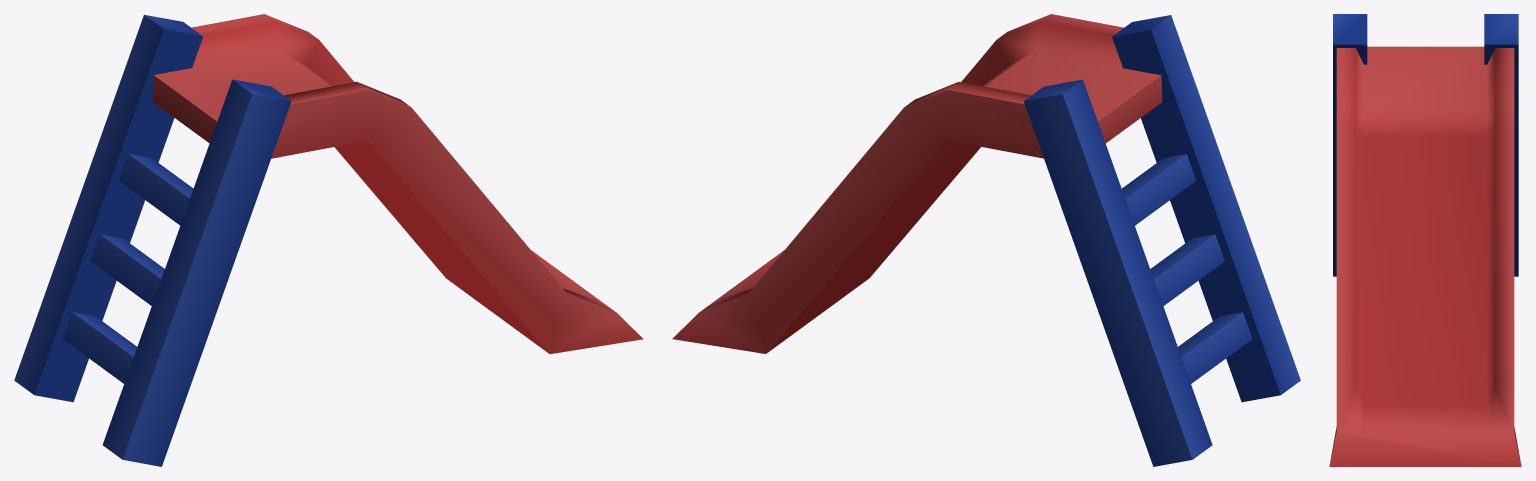
The model's file is hat_slide.glb.
The picture shows the model from 3 angles, left to right: view 1: azimuth 30°, elevation 25°; view 2: azimuth 150°, elevation 25°; view 3: azimuth 270°, elevation 25°; orthographic projection. The views are drawn at different scales.
Visible parts, largest first — view 1: hat_slide; view 2: hat_slide; view 3: hat_slide.
Part boxes in pixels (bbox=[...]): hat_slide: bbox=[14, 14, 643, 466]; hat_slide: bbox=[672, 14, 1300, 466]; hat_slide: bbox=[1329, 14, 1521, 466].
Size of the model in its own units: 0.4748 by 0.3066 by 0.1777.
